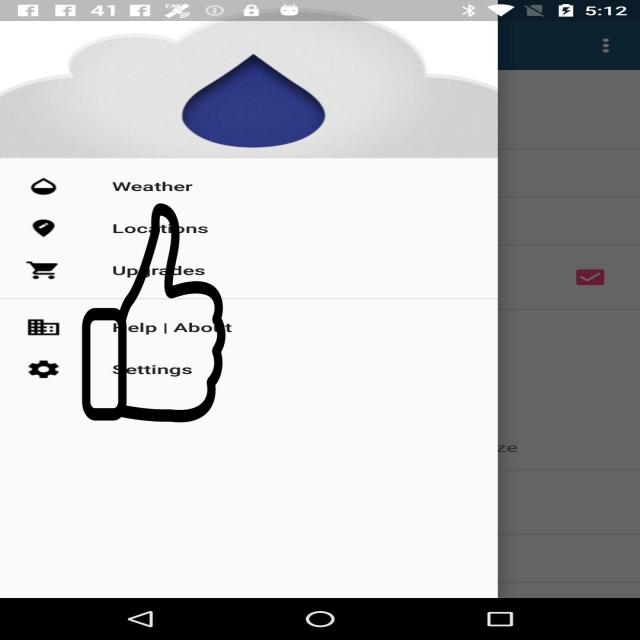privacy zuckering: (80, 204, 228, 422)
